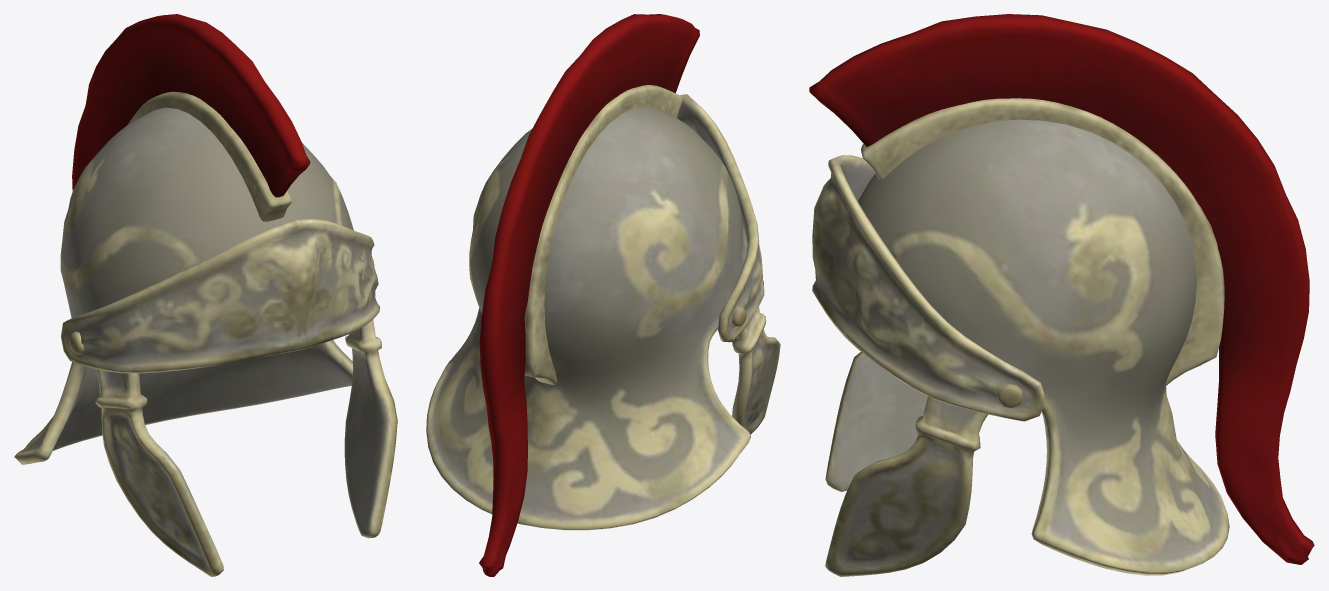
The model's file is roman.glb.
The picture shows the model from 3 angles, left to right: view 1: azimuth 30°, elevation 25°; view 2: azimuth 150°, elevation 25°; view 3: azimuth 270°, elevation 25°; orthographic projection. The views are drawn at different scales.
Visible parts, largest first — view 1: Casque_low, Visiere_low, Crin_low, Barre_low; view 2: Casque_low, Crin_low, Barre_low, Visiere_low; view 3: Casque_low, Crin_low, Visiere_low, Barre_low.
Boxes of the visible parts, x1=… form: Casque_low: x1=14, y1=107, x2=397, y2=576; Visiere_low: x1=61, y1=219, x2=379, y2=373; Crin_low: x1=72, y1=14, x2=310, y2=197; Barre_low: x1=128, y1=91, x2=291, y2=221; Casque_low: x1=426, y1=106, x2=780, y2=530; Crin_low: x1=479, y1=14, x2=699, y2=576; Barre_low: x1=524, y1=85, x2=682, y2=384; Visiere_low: x1=469, y1=94, x2=764, y2=342; Casque_low: x1=825, y1=119, x2=1229, y2=576; Crin_low: x1=809, y1=14, x2=1314, y2=564; Visiere_low: x1=812, y1=155, x2=1046, y2=421; Barre_low: x1=861, y1=98, x2=1224, y2=386.
Bounding box in the file's own units: 1.39 × 2 × 1.68.
Materials: 1 (1 with a texture image).
